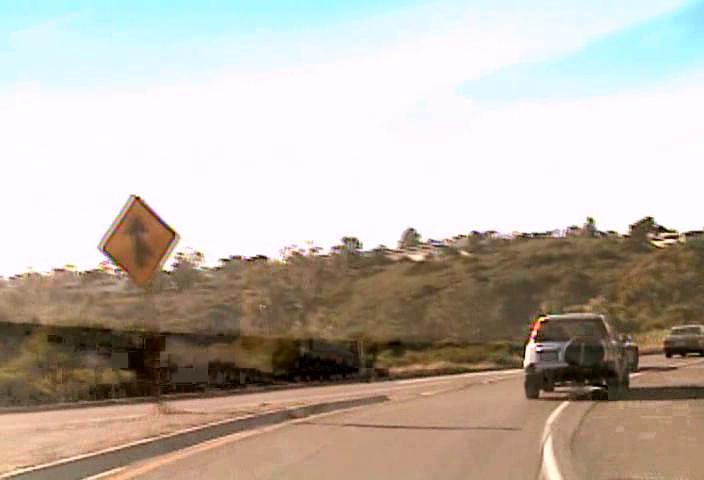merge: (98, 195, 179, 289)
